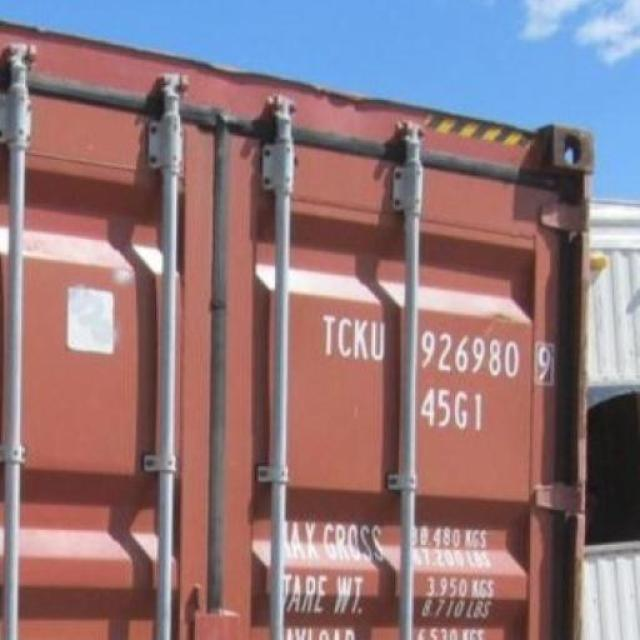ISO: (419, 389, 484, 431)
container_number: (321, 306, 563, 390)
